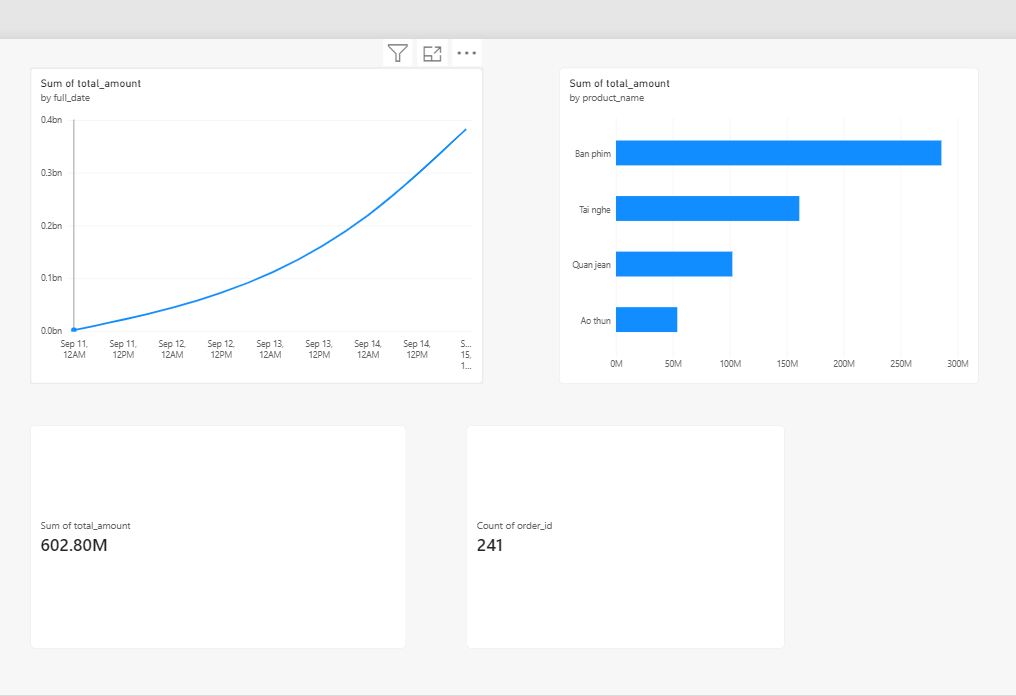

This screenshot's page, from the dashboard's own definition file:
{"tool":"powerbi","page":{"name":"Page 1","canvas":[1920,1080],"ordinal":0},"visuals":[{"type":"lineChart","fields":{"Category":["public dim_date.full_date"],"Y":["Sum(public fact_orders.total_amount)"]},"box":[175,47.3,745.1,520.8],"z":0},{"type":"clusteredBarChart","fields":{"Category":["public dim_product.product_name"],"Y":["Sum(public fact_orders.total_amount)"]},"box":[1045.6,47.3,691.6,520.8],"z":1},{"type":"cardVisual","fields":{"Data":["Sum(public fact_orders.total_amount)"]},"box":[175,636,619.6,368.4],"z":2},{"type":"cardVisual","fields":{"Data":["Count(public fact_orders.order_id)"]},"box":[893.3,636,524.9,368.4],"z":3}]}

Visuals, with their boxes on the page's 1920x1080 design canvas (x1, y1, x2, y2). These are canvas units, not pixel positions in the 1016x696 screenshot, which may show the page scaled, cropped or inside an application window:
lineChart - public dim_date.full_date x Sum(public fact_orders.total_amount): x1=175, y1=47, x2=920, y2=568
clusteredBarChart - public dim_product.product_name x Sum(public fact_orders.total_amount): x1=1046, y1=47, x2=1737, y2=568
cardVisual - Sum(public fact_orders.total_amount): x1=175, y1=636, x2=795, y2=1004
cardVisual - Count(public fact_orders.order_id): x1=893, y1=636, x2=1418, y2=1004
